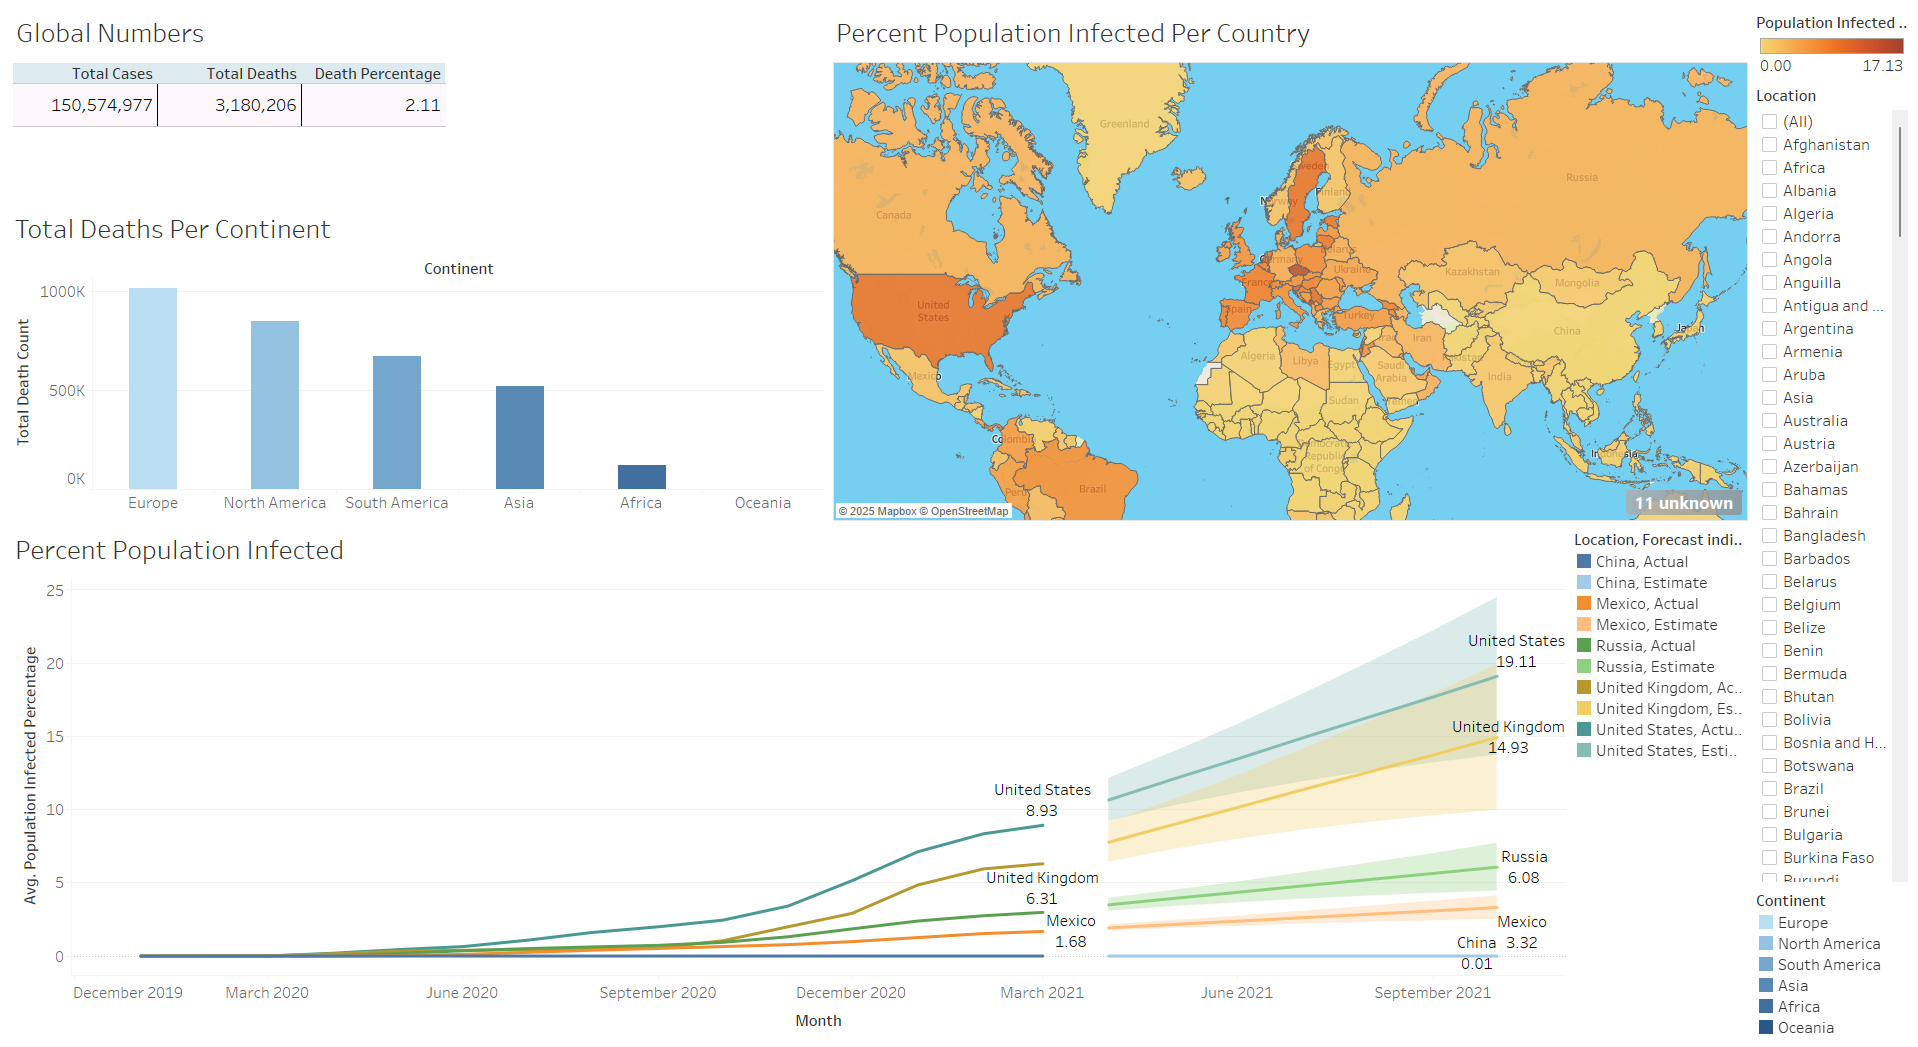

The dashboard page shown, as its layout file describes it:
{"tool":"tableau","page":{"name":"Dashboard 1","canvas":[1000,1000],"units":"permille","ordinal":0},"visuals":[{"type":"worksheet","title":"Sheet 1","mark":"Automatic","box":[4.8,9.1,420.9,186.3]},{"type":"worksheet","title":"Sheet 3","mark":"Automatic","box":[425.7,9.1,472.9,490.9]},{"type":"legend","title":"Sheet 3","param":"[federated.0ueur7b0dsy7yd1h1f2vb1rwebm6].[sum:PopulationInfectedPercentage:qk]","box":[898.6,9.1,96.6,83.4]},{"type":"filter","title":"Sheet 4","param":"[federated.141vs800r8z2hw1a9e8430uoy2av].[none:Location:nk]","box":[898.6,92.6,96.6,720]},{"type":"worksheet","title":"Sheet 2","mark":"Automatic","rows":["TotalDeathCount"],"cols":["Location"],"box":[4.8,195.4,420.9,304.6]},{"type":"worksheet","title":"Sheet 4","mark":"Automatic","rows":["PopulationInfectedPercentage"],"cols":["date"],"box":[4.8,500,800.4,490.9]},{"type":"legend","title":"Sheet 4","param":"[federated.141vs800r8z2hw1a9e8430uoy2av].[none:Location:nk]\n[federated.141vs800r","box":[805.2,500,93.4,490.9]},{"type":"legend","title":"Sheet 2","param":"[federated.11yh0u019ns3f210mn5sw180n4k9].[none:Location:nk]","box":[898.6,812.6,96.6,178.3]}]}

Visuals, with their boxes on the dashboard's canvas, which has no fixed pixel size, in thousandths of its width and height (x1, y1, x2, y2). These are canvas units, not pixel positions in the 1918x1047 screenshot, which may show the page scaled, cropped or inside an application window:
"Sheet 1" worksheet: (5, 9, 426, 195)
"Sheet 3" worksheet: (426, 9, 899, 500)
"Sheet 3" legend: (899, 9, 995, 92)
"Sheet 4" filter: (899, 93, 995, 813)
"Sheet 2" worksheet: (5, 195, 426, 500)
"Sheet 4" worksheet: (5, 500, 805, 991)
"Sheet 4" legend: (805, 500, 899, 991)
"Sheet 2" legend: (899, 813, 995, 991)
